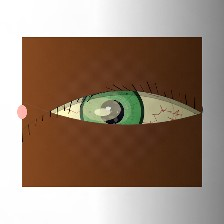corneal_ulcer: (71, 85, 133, 134)
